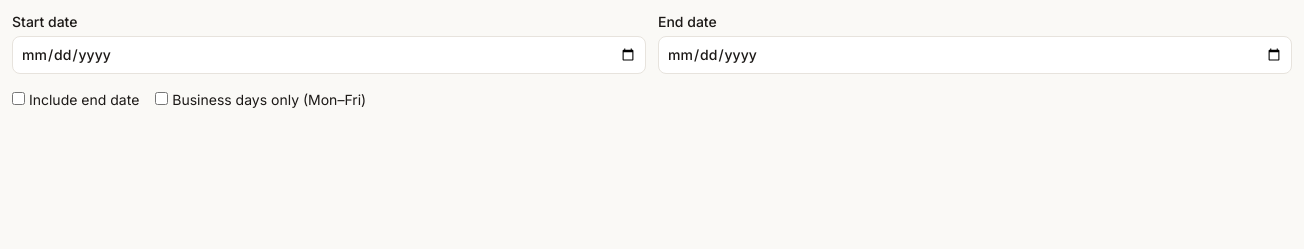
Test: dateDifference › forwards UI options and renders reversed-date feedback
Type "2024-03-04" into the date field labelled "Start date" at (329, 55), box [12, 36, 646, 74]
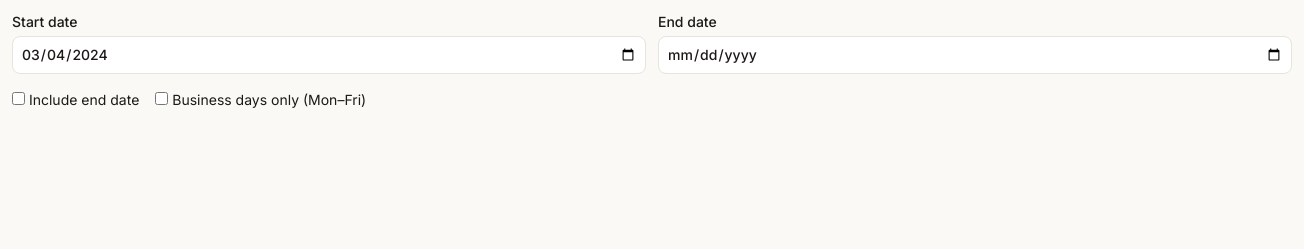
Type "2024-03-01" into the date field labelled "End date" at (975, 55), box [658, 36, 1292, 74]
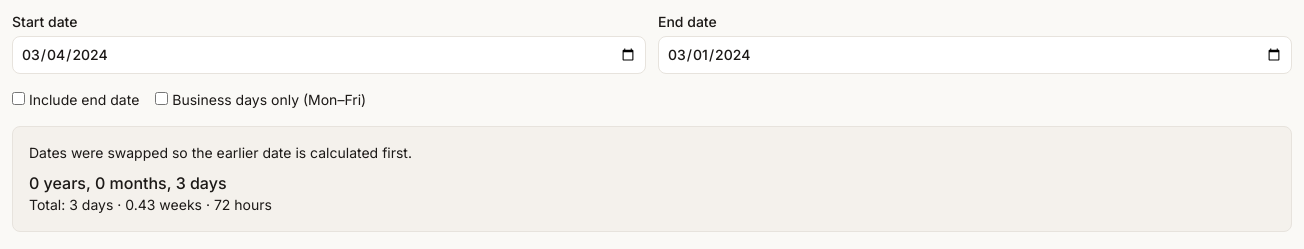
Click the checkbox labelled "Include end date" at (18, 98), box [12, 92, 25, 105]
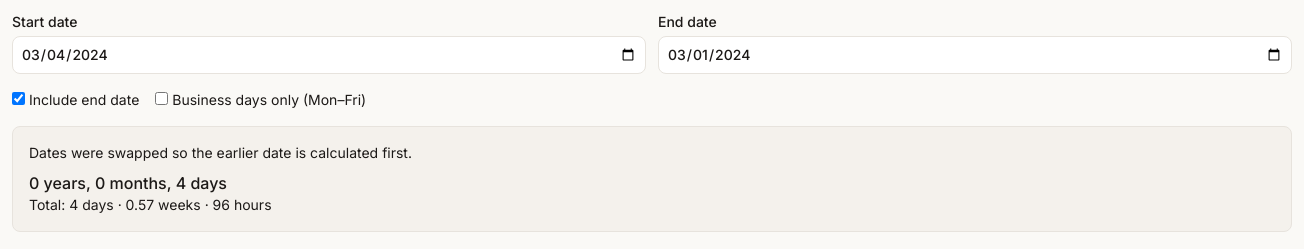
Click the checkbox labelled "Business days only (Mon–Fri)" at (162, 98), box [155, 92, 168, 105]
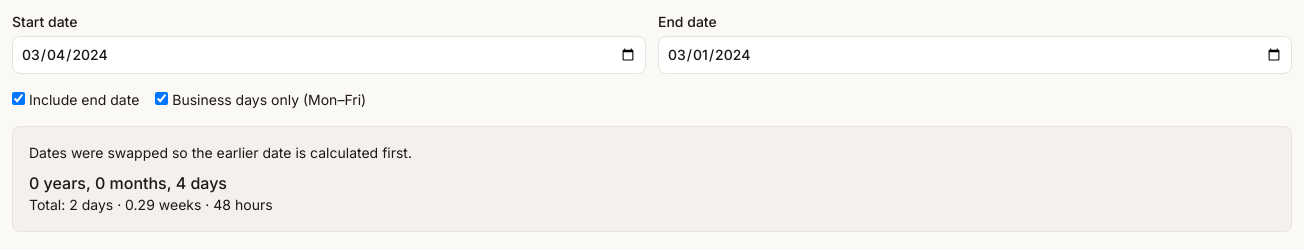
Check: the text "Dates were swapped so the earlier date is calculated first." is shown, box [29, 144, 412, 161]
Check: the text "Total: 2 days · 0.29 weeks · 48 hours" is shown, box [29, 196, 273, 213]
